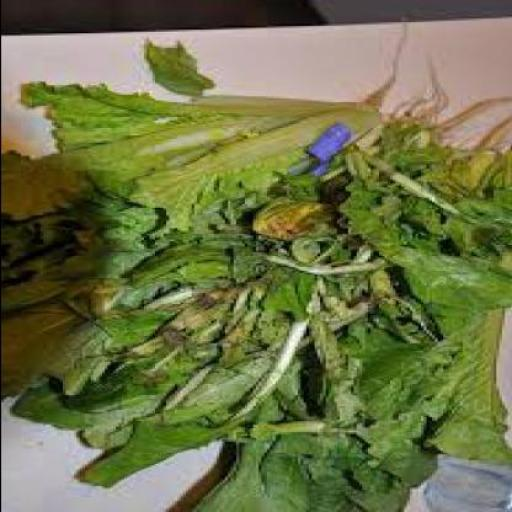biodegradable: (2, 97, 511, 409), (198, 118, 511, 511), (3, 82, 406, 312), (14, 228, 249, 488), (148, 43, 221, 100)
